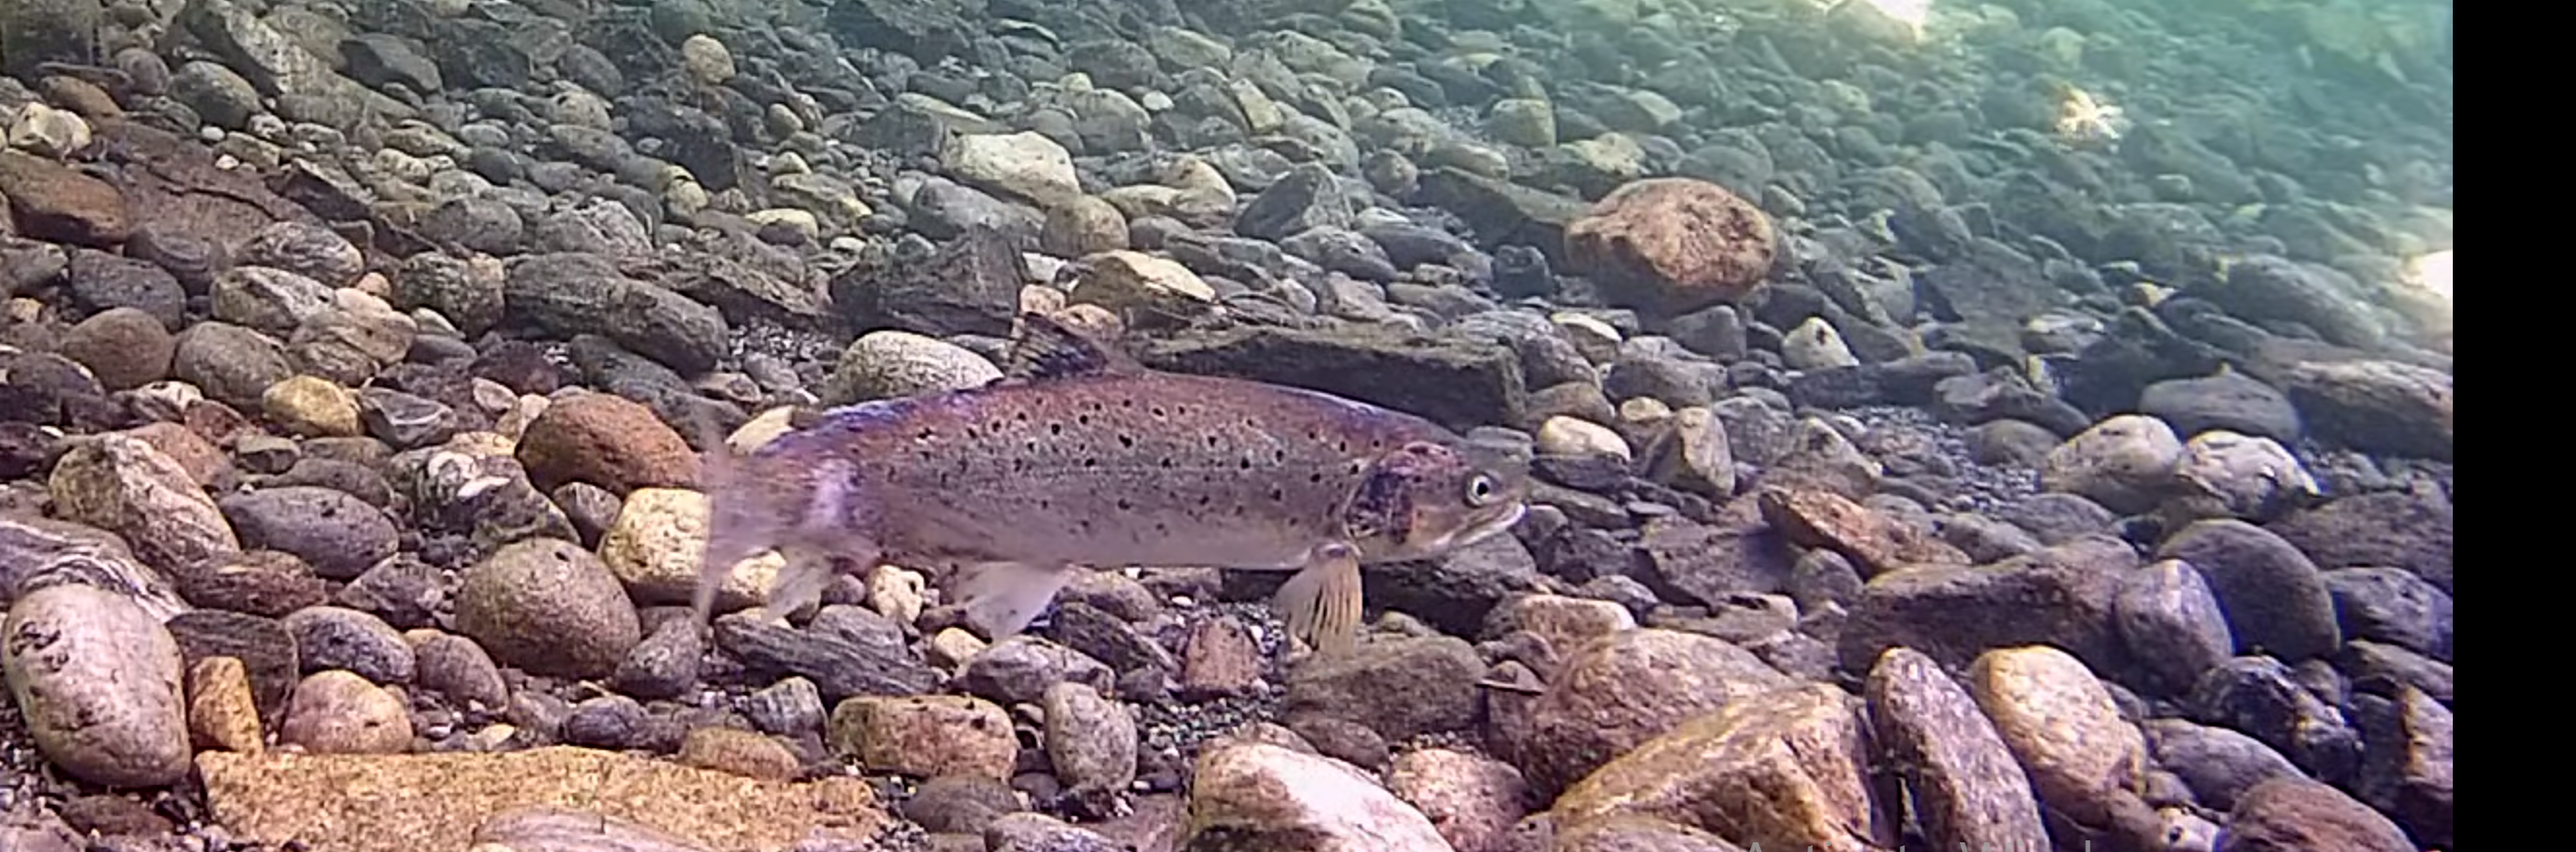salmon: (667, 302, 1536, 650)
